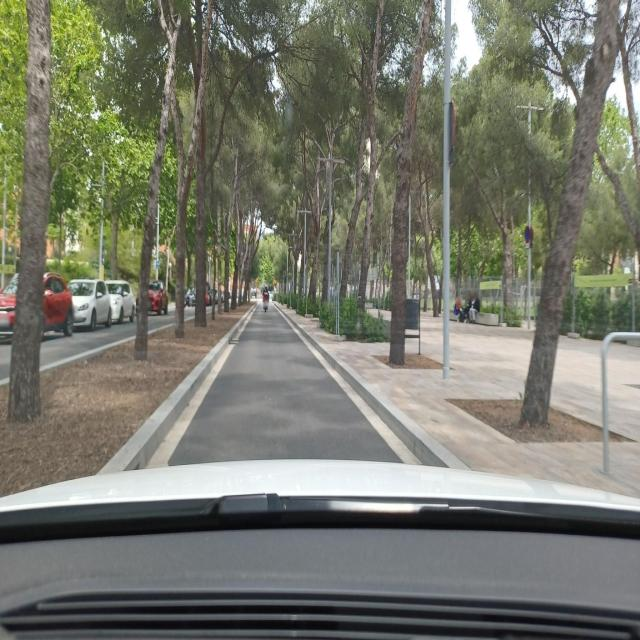forb_stopping: (524, 226, 530, 243)
